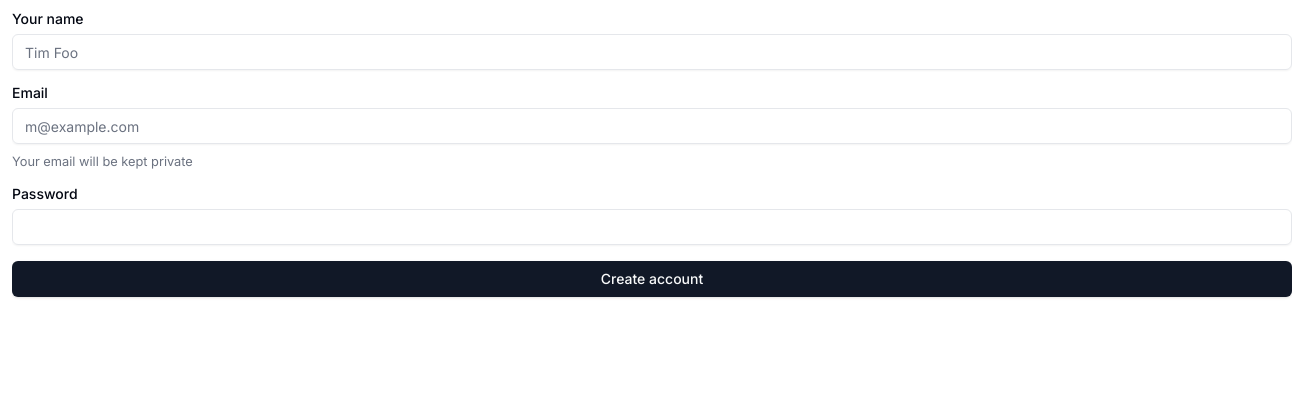
it: validation is not successful › and password is not valid › should show an error if password is too weak
The image size is (1304, 397).
Type "abcd1234" into the password field labelled "Password".
click(652, 227); type("abcd1234")  # box [12,209,1292,245]
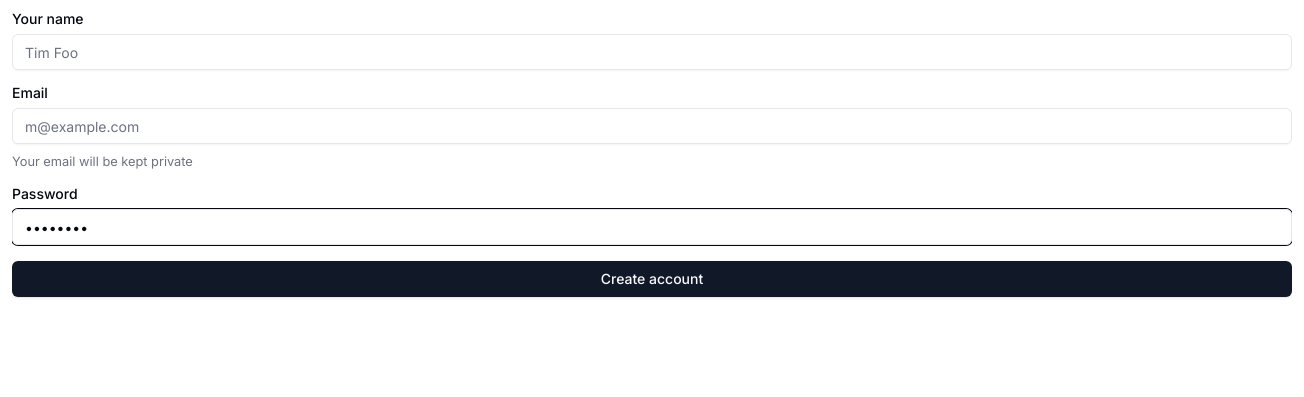
Click the button "Create account".
click(652, 279)  # box [12,261,1292,297]
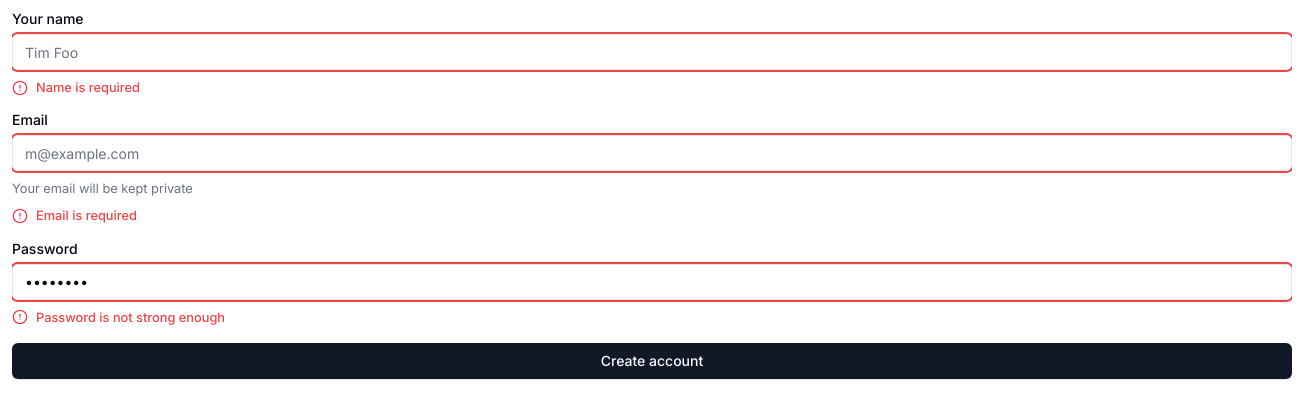
Expected: the text "Password is not strong enough" is shown, [12,309,225,325]
